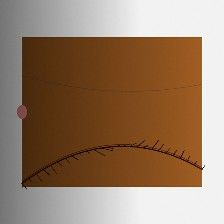pinguecula_lesion: (159, 89, 207, 127)
